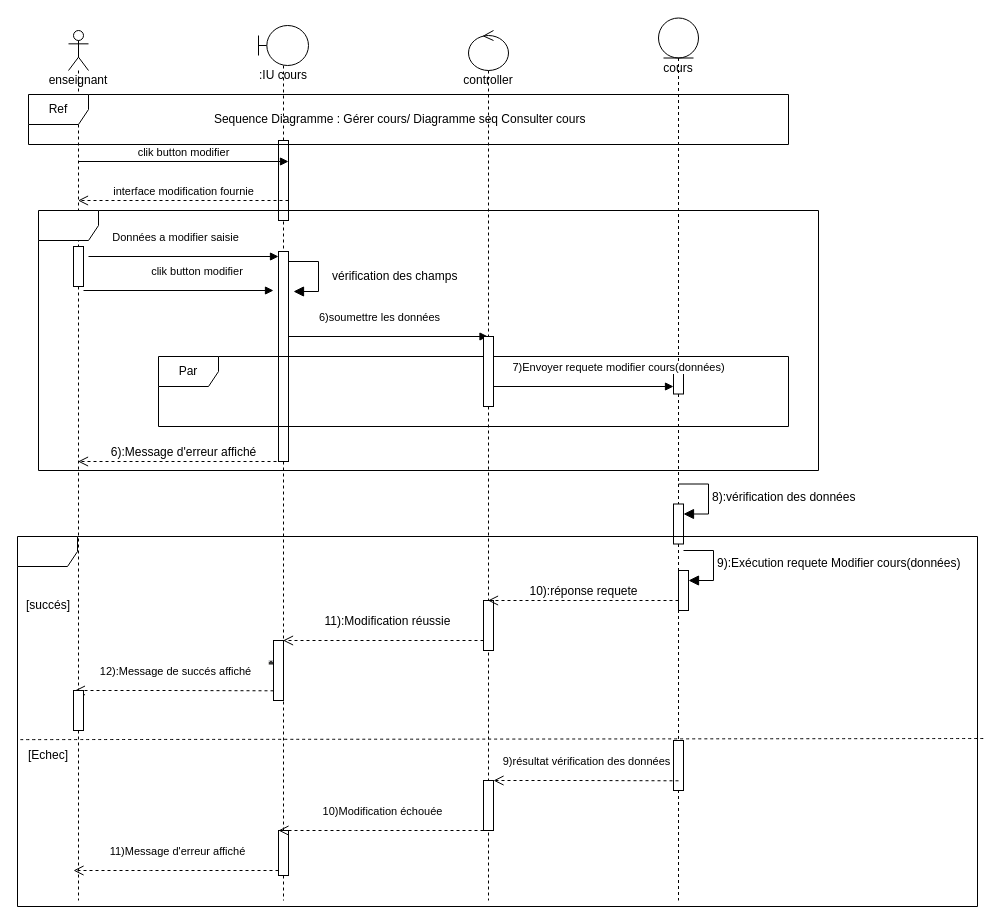
This 1001x924 diagram has some shape labels left out. Each missing label, with the centre of its shape:
"Alt" belongs at pixel 497 721.
"Loop" belongs at pixel 428 340.
